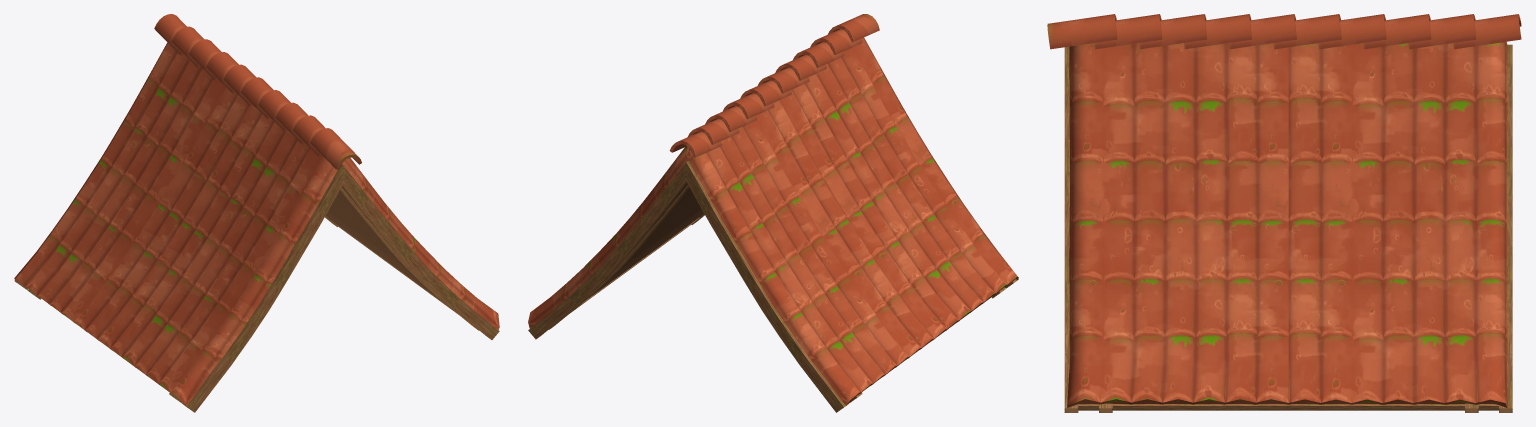
The model's file is roof_roundtiles_6x6.glb.
The picture shows the model from 3 angles, left to right: view 1: azimuth 30°, elevation 25°; view 2: azimuth 150°, elevation 25°; view 3: azimuth 270°, elevation 25°; orthographic projection. The views are drawn at different scales.
Size of the model in its own units: 8.25 by 5.67 by 8.03.
2 materials, 2 textured.
